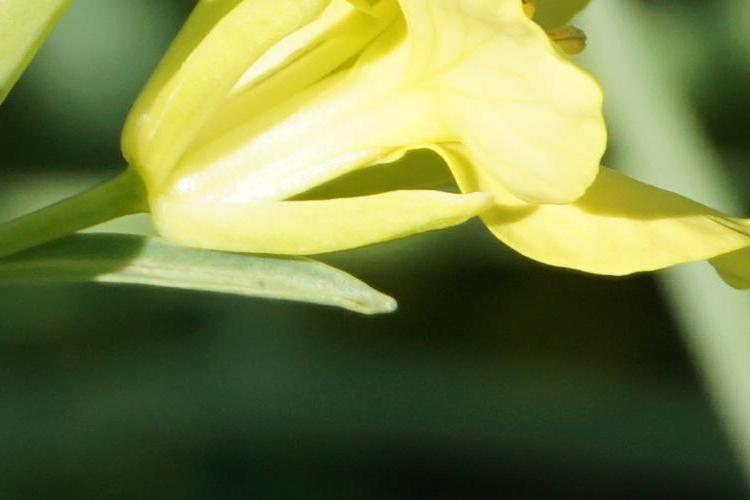yellow: (127, 6, 730, 257)
